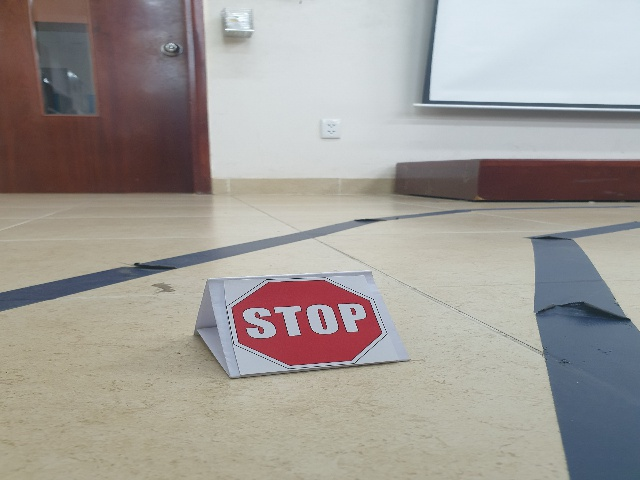Stop: (225, 279, 387, 369)
